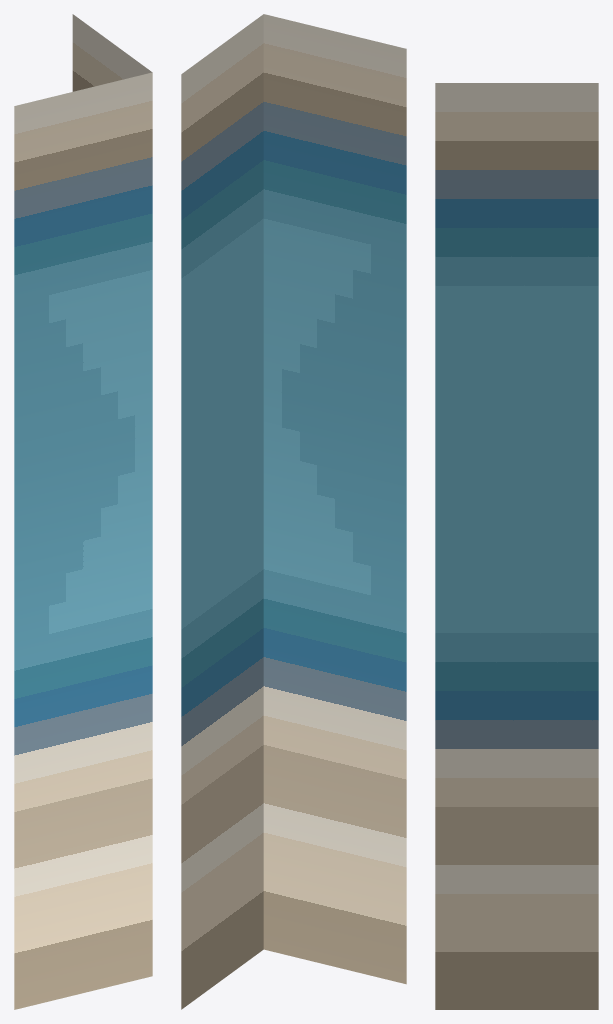
3 renders of one model, left to right at view 1: azimuth 30°, elevation 25°; view 2: azimuth 150°, elevation 25°; view 3: azimuth 270°, elevation 25°, orthographic. The views are drawn at different scales.
Size of the model in its own units: 0.5 by 3.12 by 0.5.
Materials: 1 (1 with a texture image).
